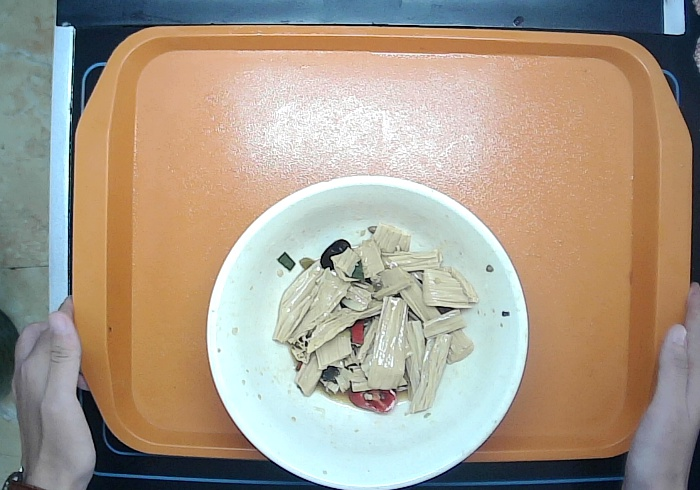ZNLD-Da_Tang_Wan: (205, 177, 529, 490)
